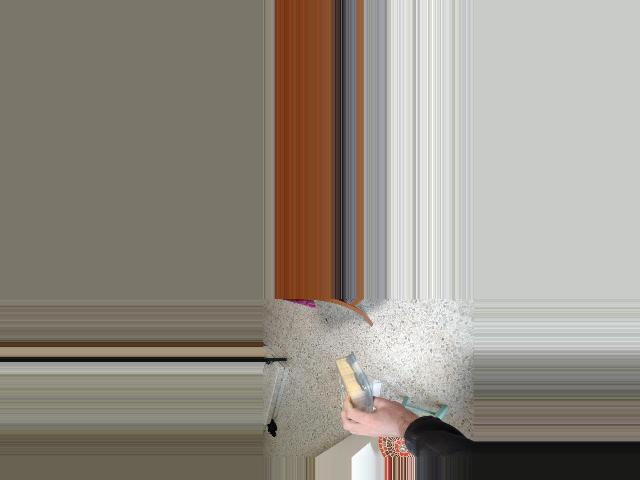cheese: (330, 348, 380, 425)
